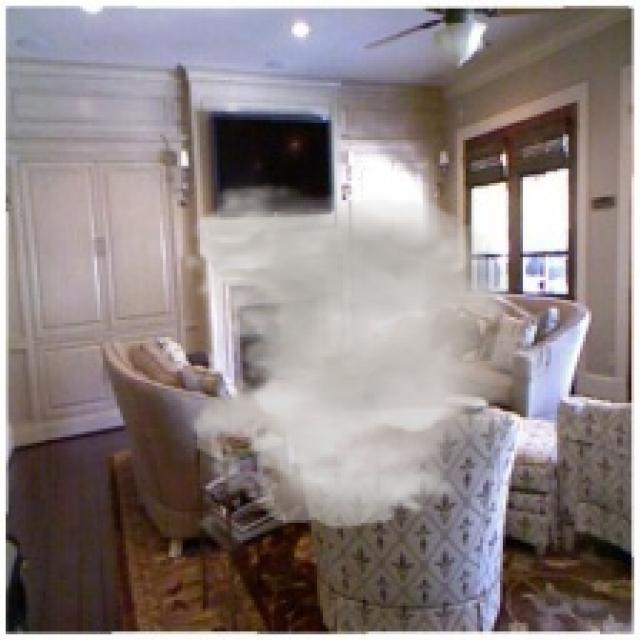smoke: (180, 183, 563, 528)
